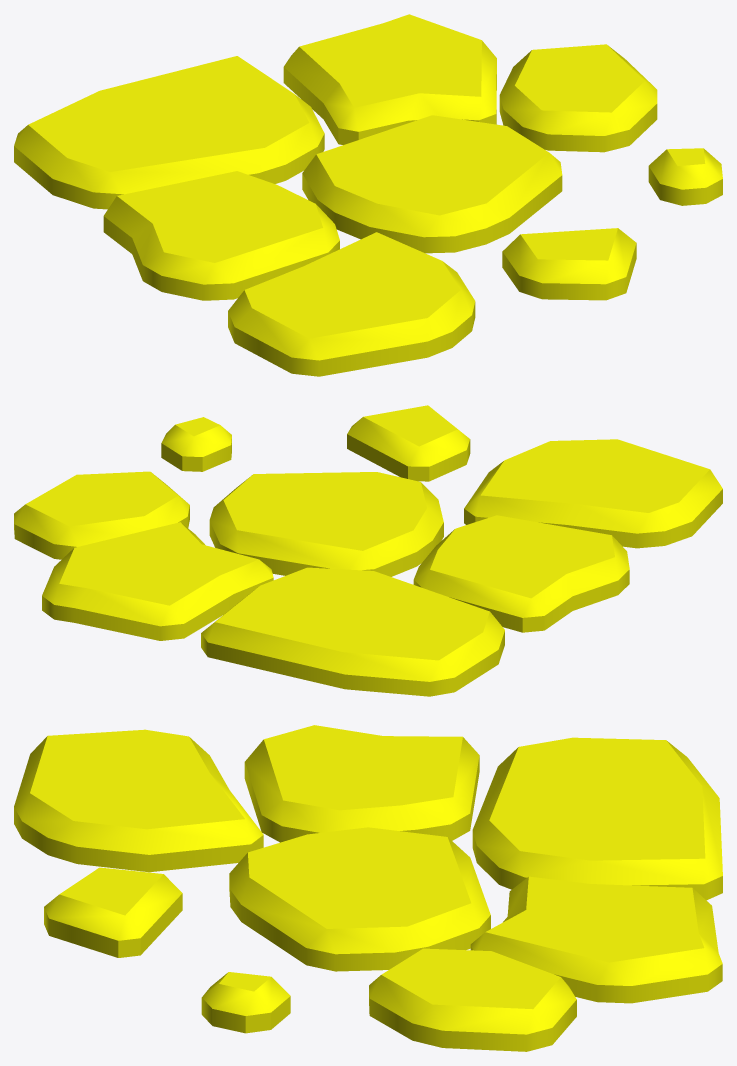
The model's file is kaykit-path-c.glb.
The picture shows the model from 3 angles, top to bottom: view 1: azimuth 30°, elevation 25°; view 2: azimuth 150°, elevation 25°; view 3: azimuth 270°, elevation 25°; orthographic projection. The views are drawn at different scales.
Visible parts, largest first — view 1: path_C; view 2: path_C; view 3: path_C.
Part boxes in pixels (x1=…): path_C: x1=14, y1=14, x2=722, y2=376; path_C: x1=14, y1=405, x2=722, y2=696; path_C: x1=14, y1=725, x2=722, y2=1051.
Size of the model in its own units: 1.85 by 0.1 by 1.86.
